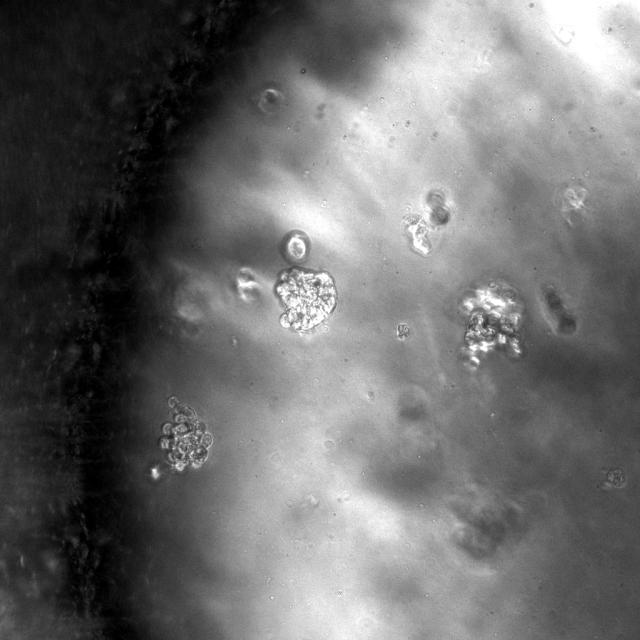organoid: (459, 281, 523, 369), (149, 396, 212, 480), (276, 267, 337, 333), (540, 283, 577, 334), (402, 214, 433, 256), (280, 229, 311, 265), (426, 188, 451, 227), (608, 468, 626, 487)
